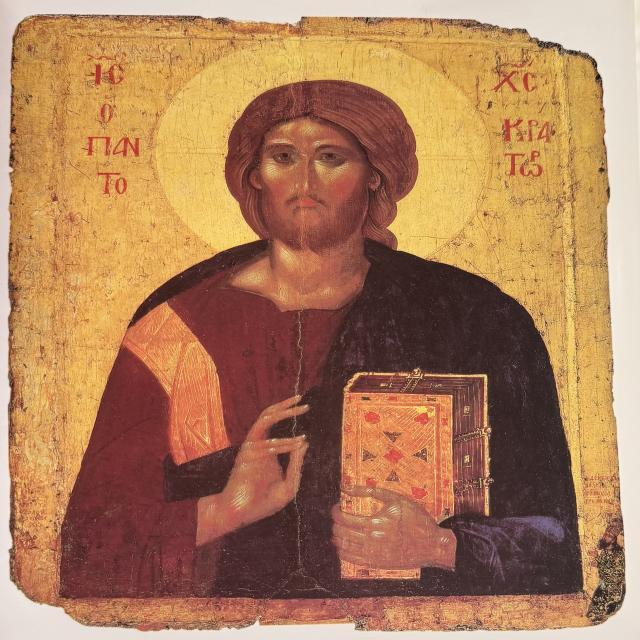aura: (150, 34, 490, 268)
book: (324, 367, 502, 585)
christ: (55, 26, 595, 598)
christ_hand: (190, 390, 314, 542)
